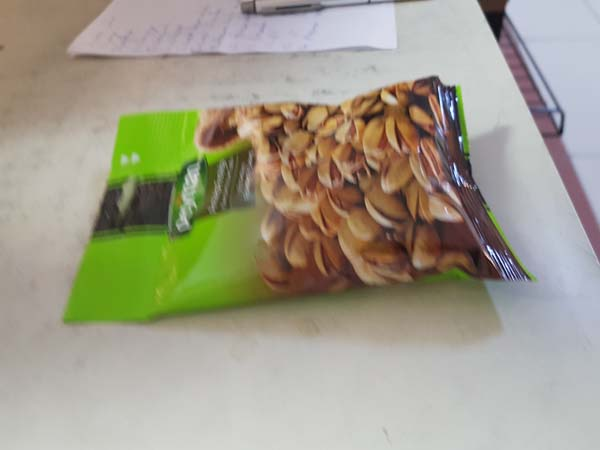antepfistigi: (53, 70, 544, 324)
